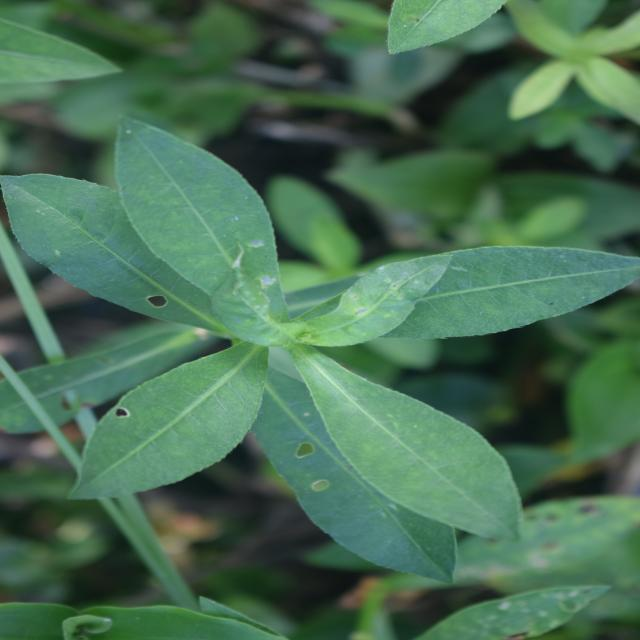Alligatorweed: (80, 35, 502, 593)
